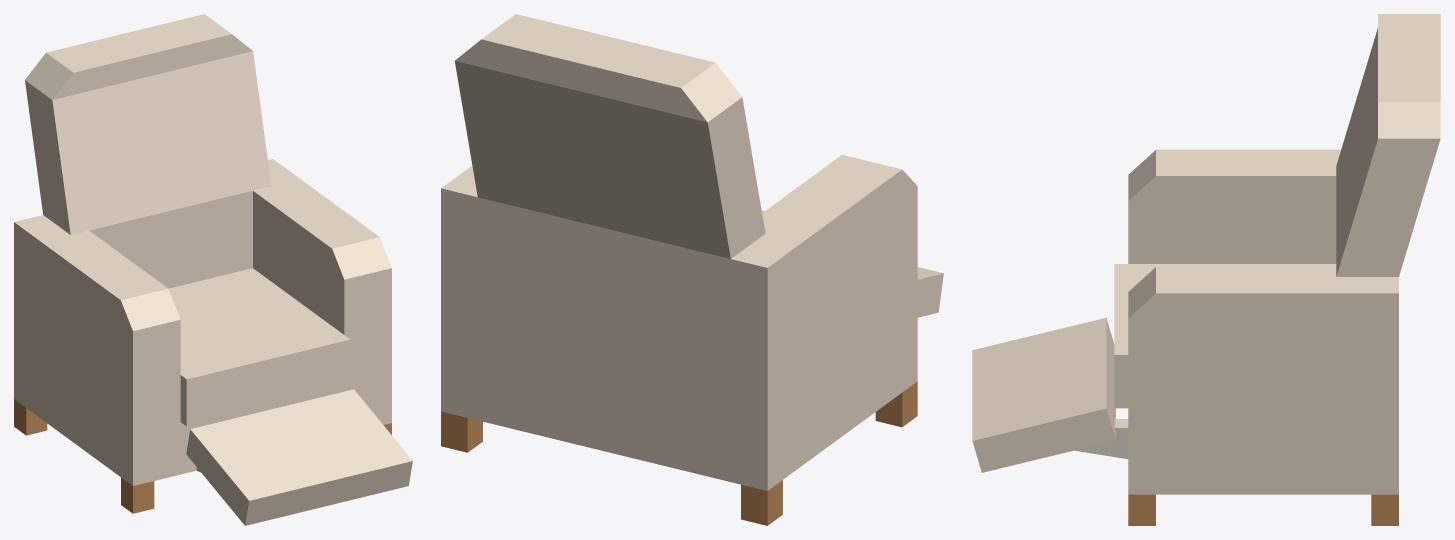
Rendered from kitLoungeChairRelax.glb.
3 renders of one model, left to right at view 1: azimuth 30°, elevation 25°; view 2: azimuth 150°, elevation 25°; view 3: azimuth 270°, elevation 25°, orthographic. The views are drawn at different scales.
Visible parts, largest first — view 1: kitLoungeChairRelax_fabric, kitLoungeChairRelax_wood; view 2: kitLoungeChairRelax_fabric, kitLoungeChairRelax_wood; view 3: kitLoungeChairRelax_fabric, kitLoungeChairRelax_wood, kitLoungeChairRelax_metal.
Boxes of the visible parts, x1,y1,x2,y2 form: kitLoungeChairRelax_fabric: (14, 14, 412, 525); kitLoungeChairRelax_wood: (14, 399, 391, 513); kitLoungeChairRelax_fabric: (441, 14, 943, 490); kitLoungeChairRelax_wood: (441, 381, 917, 525); kitLoungeChairRelax_fabric: (972, 14, 1440, 494); kitLoungeChairRelax_wood: (1128, 494, 1398, 525); kitLoungeChairRelax_metal: (1074, 419, 1128, 459).
Bounding box in the file's own units: 0.98 × 1.26 × 1.35.
